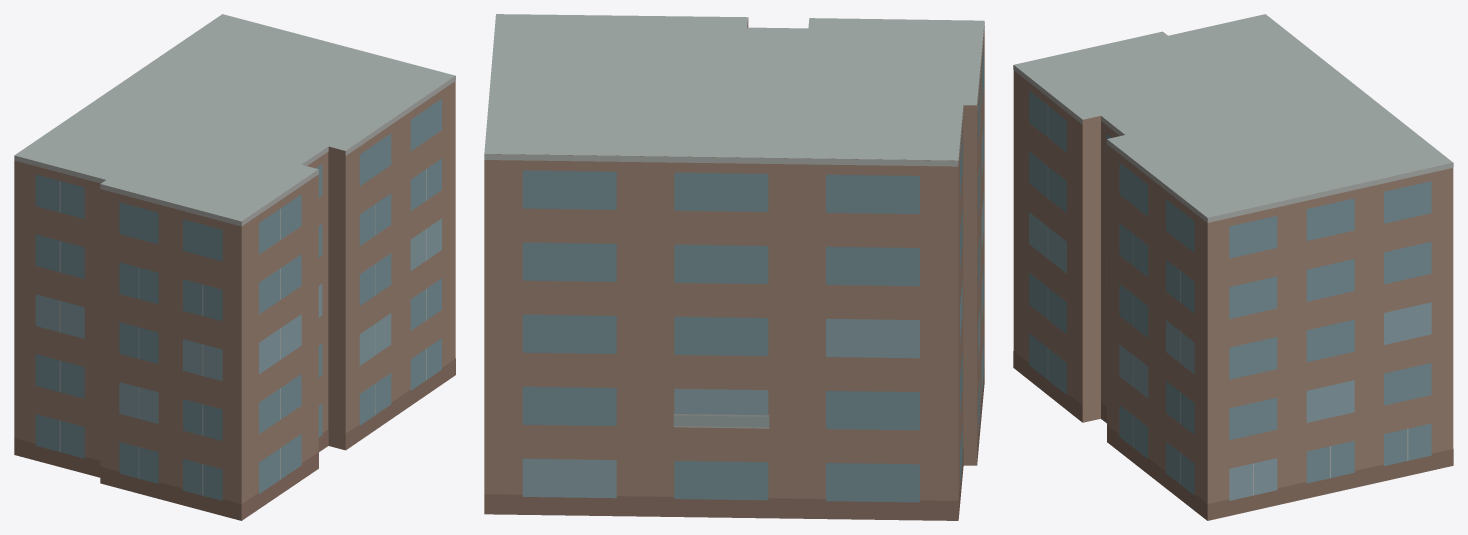
Rendered from survey-upis-32759466.glb.
3 views of the same model, side by side, from view 1: azimuth 30°, elevation 25°; view 2: azimuth 150°, elevation 25°; view 3: azimuth 270°, elevation 25° (orthographic). The views are drawn at different scales.
Parts seen in each view (by area): view 1: survey-upis-32759466.tmp; view 2: survey-upis-32759466.tmp; view 3: survey-upis-32759466.tmp.
Part boxes in pixels (left/top/right/bottom): survey-upis-32759466.tmp: left=14, top=14, right=455, bottom=520; survey-upis-32759466.tmp: left=484, top=14, right=984, bottom=520; survey-upis-32759466.tmp: left=1013, top=14, right=1453, bottom=520.
Bounding box in the file's own units: 20.94 × 14.5 × 19.09.
